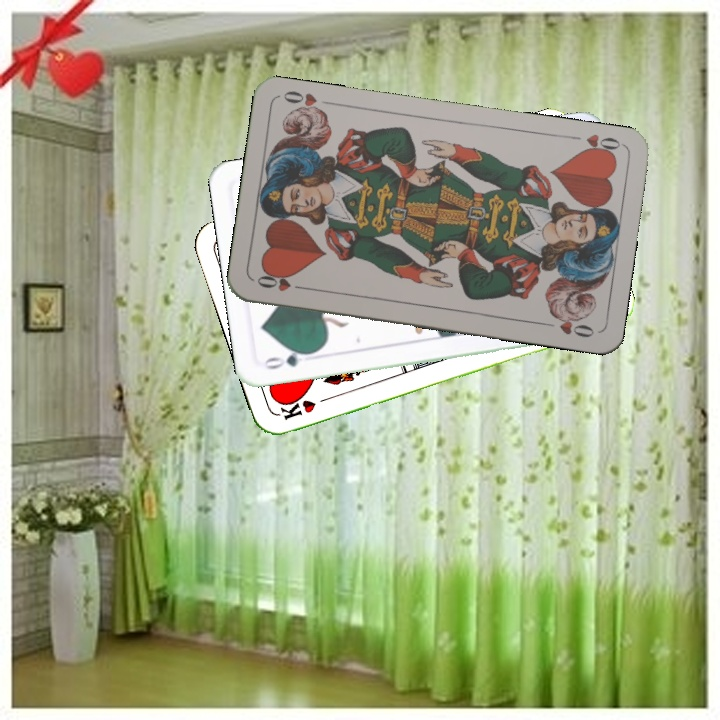GO: (259, 346, 317, 372)
HK: (277, 392, 334, 423)
HO: (565, 129, 623, 160), (252, 270, 311, 294)
